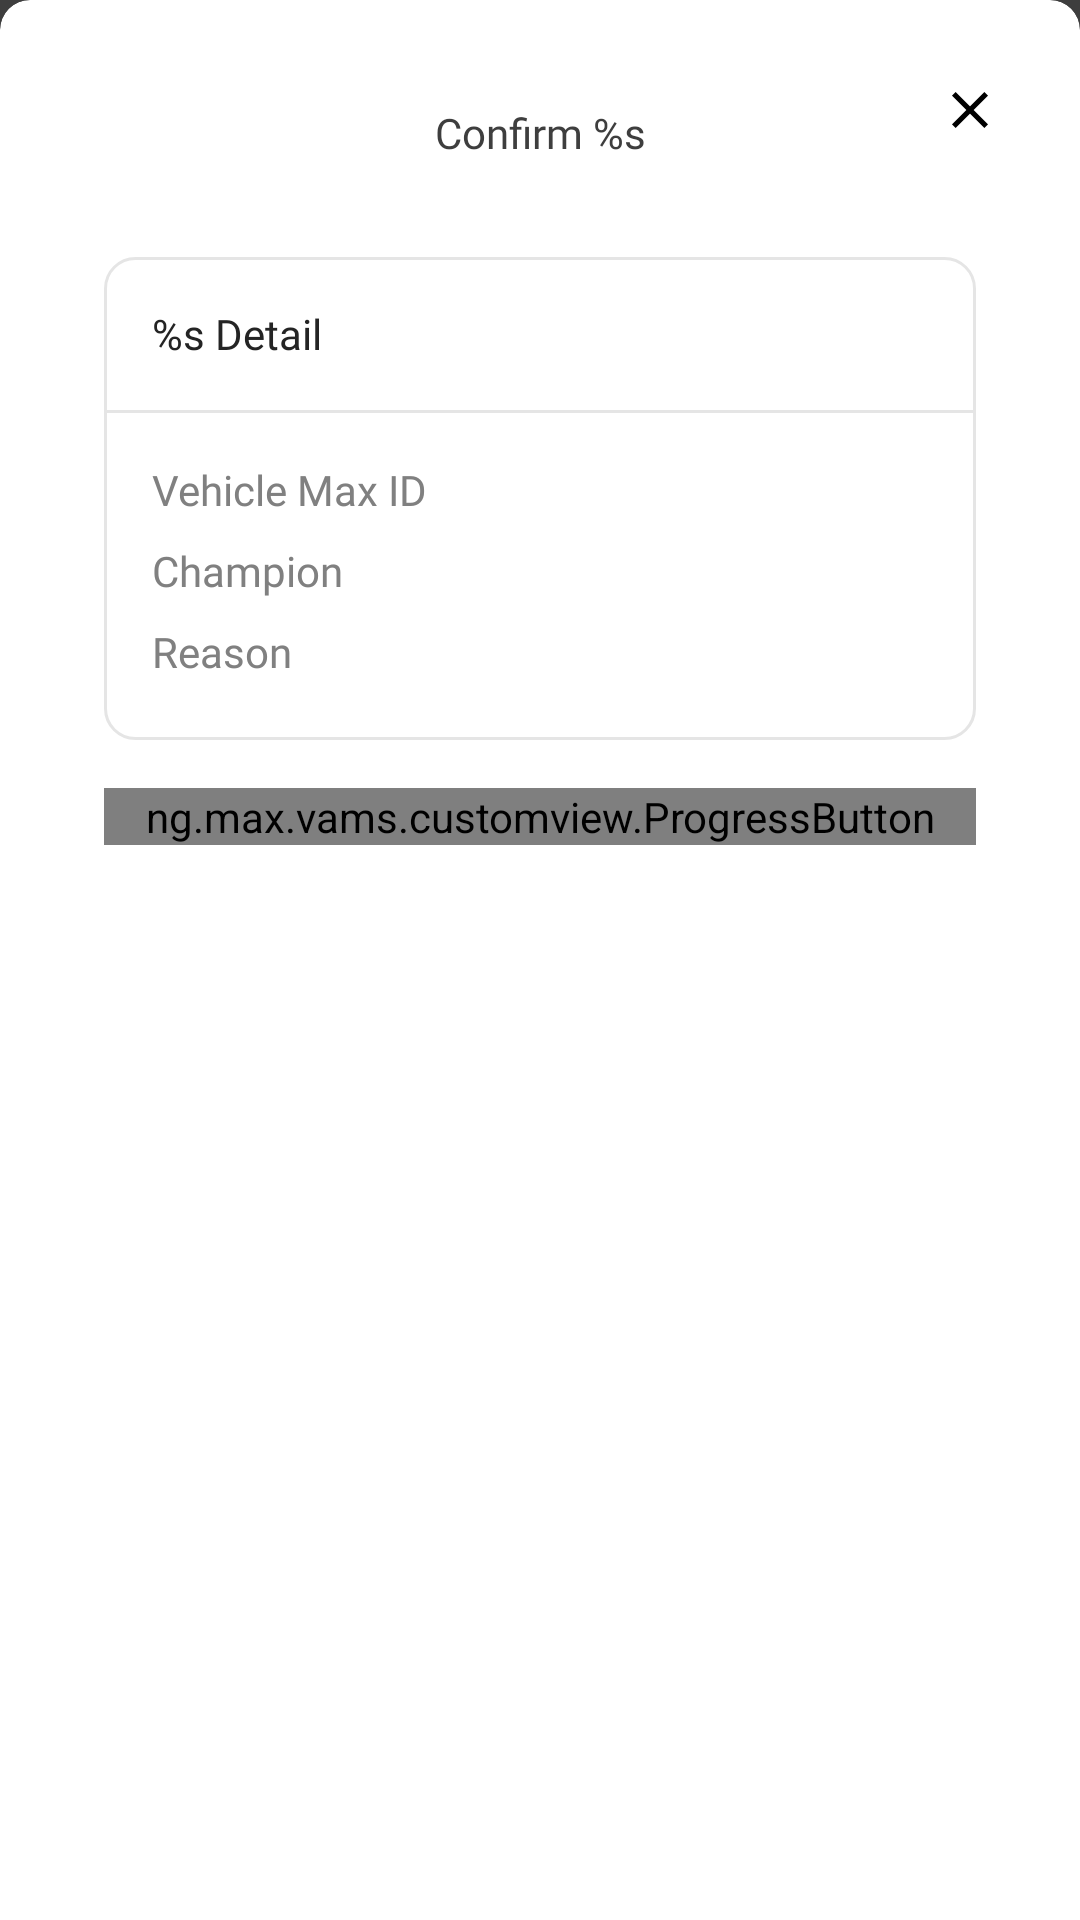

Icon click points for this 1080 x 1920 phone screenshot, format point (x, y):
close button: point (970, 110)
